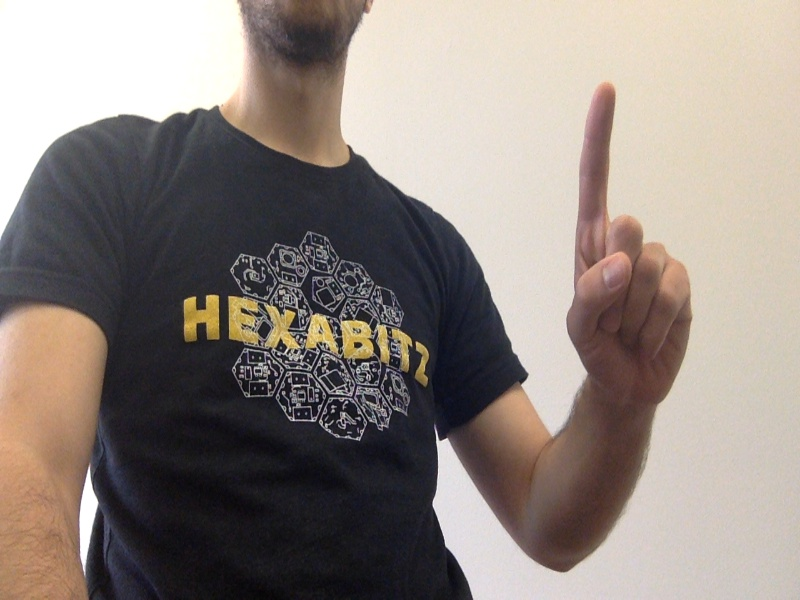1-hand: (571, 82, 692, 399)
